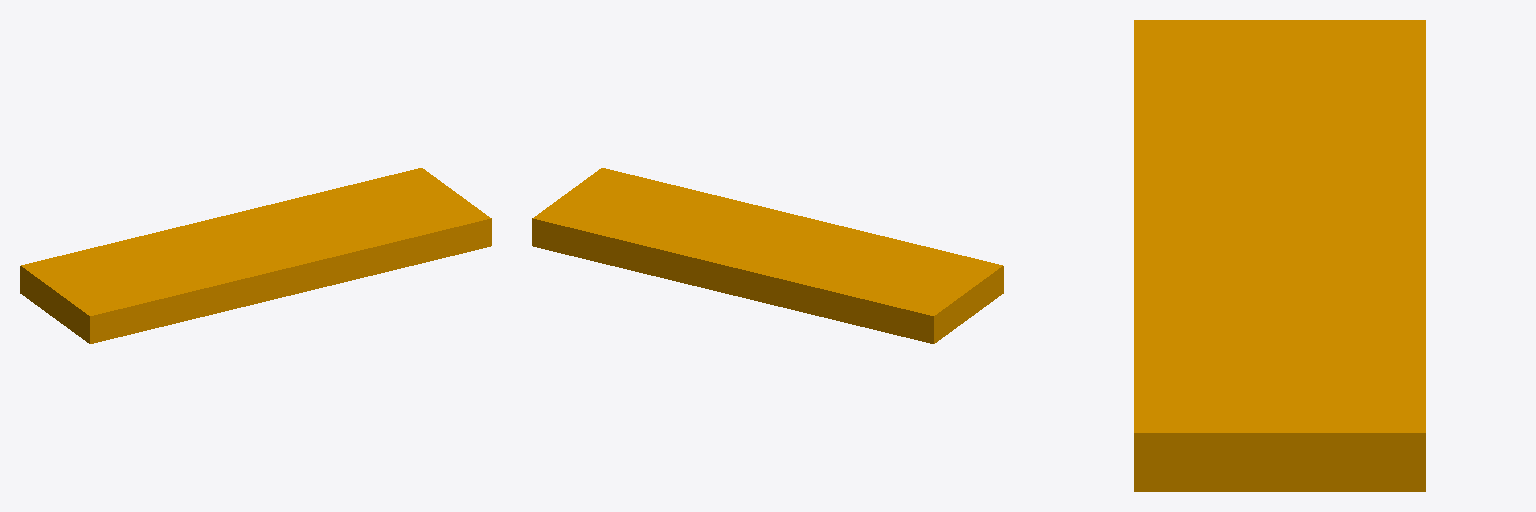
URDF robot description (box):
<?xml version="1.0"?>
<robot name="box">
  <link name="base_link"> <!-- required name-->
    <inertial>
      <origin xyz="0 0 0" /> 
      <mass value="1.0" />
      <inertia  ixx="1.0" ixy="0.0"  ixz="0.0"  iyy="1.0"  iyz="0.0"  izz="100.0" />
    </inertial>
    <visual>
      <origin xyz="0 0 0"/>
      <geometry>
        <box size="0.6 0.18 0.04"/>
      </geometry>
    </visual>
    <collision>
      <origin xyz="0 0 0"/>
      <geometry>
        <box size="0.6 0.18 0.04"/>
      </geometry>
    </collision>
  </link>
</robot>

--- Facts derived from the render (not from the file) ---
The picture shows the robot from 3 angles, left to right: view 1: azimuth 30°, elevation 25°; view 2: azimuth 150°, elevation 25°; view 3: azimuth 270°, elevation 25°; orthographic projection.
Robot: box — 1 links, 0 joints (none); root link base_link; default pose: all joints at 0.
Links seen in each view (by area): view 1: base_link; view 2: base_link; view 3: base_link.
Boxes of the visible links, x1,y1,x2,y2 form: base_link: (20,168,491,343); base_link: (532,168,1003,343); base_link: (1134,20,1425,491).
Size in the robot's own frame: 0.6 by 0.18 by 0.04 metres.
Geometry: primitives only (box / cylinder / sphere), no mesh files.